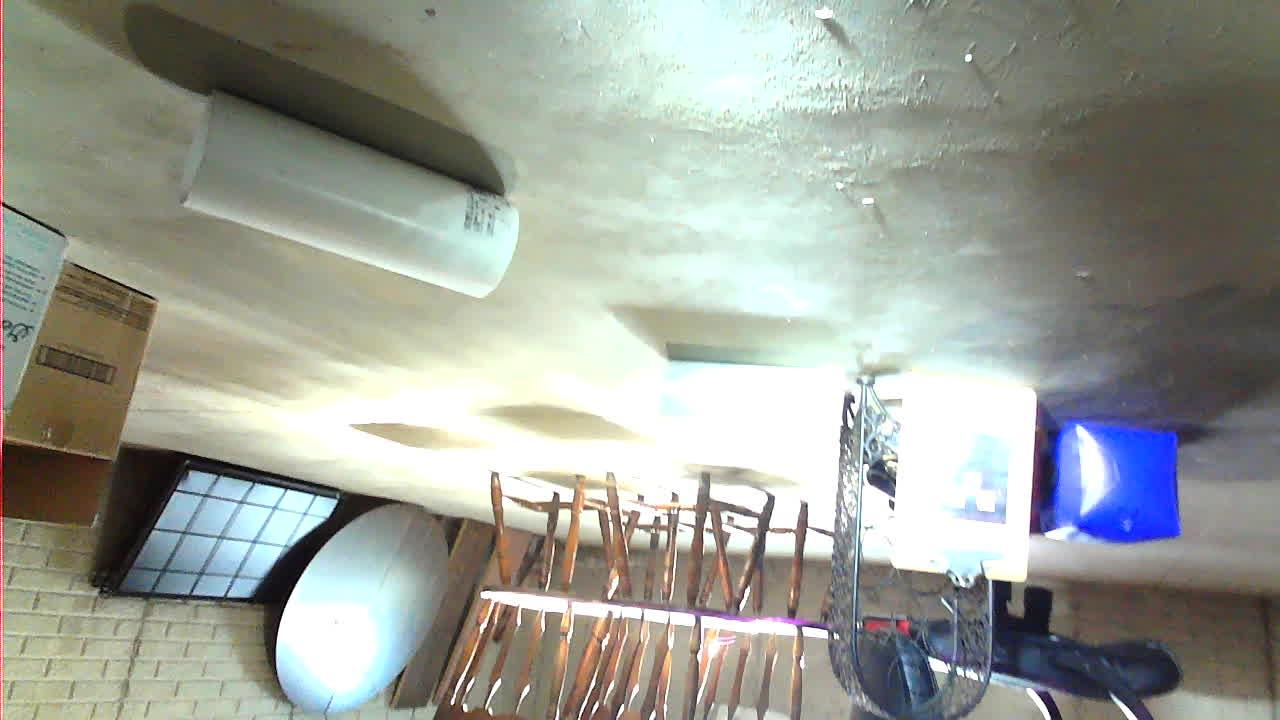coral: (761, 421, 1101, 631)
